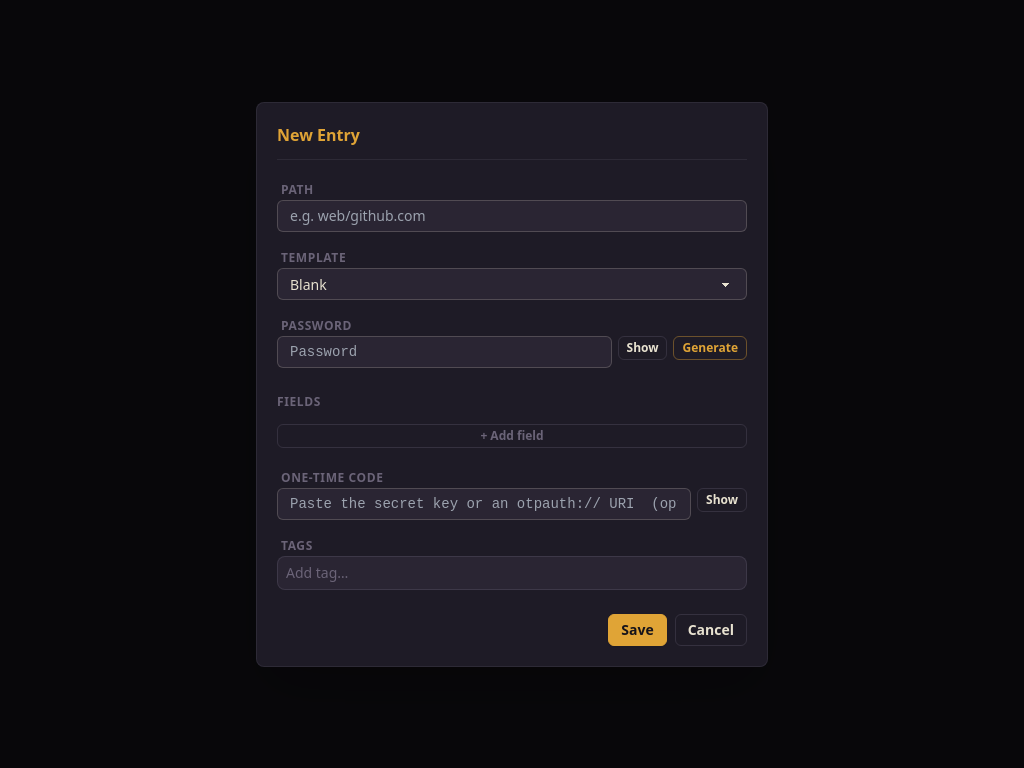
Test: Form (create) — Save › shows AlreadyExists error inline and does not close
The image size is (1024, 768).
In the field with test id "path-input": (512, 216) [277, 200, 747, 232], type "web/test.com"
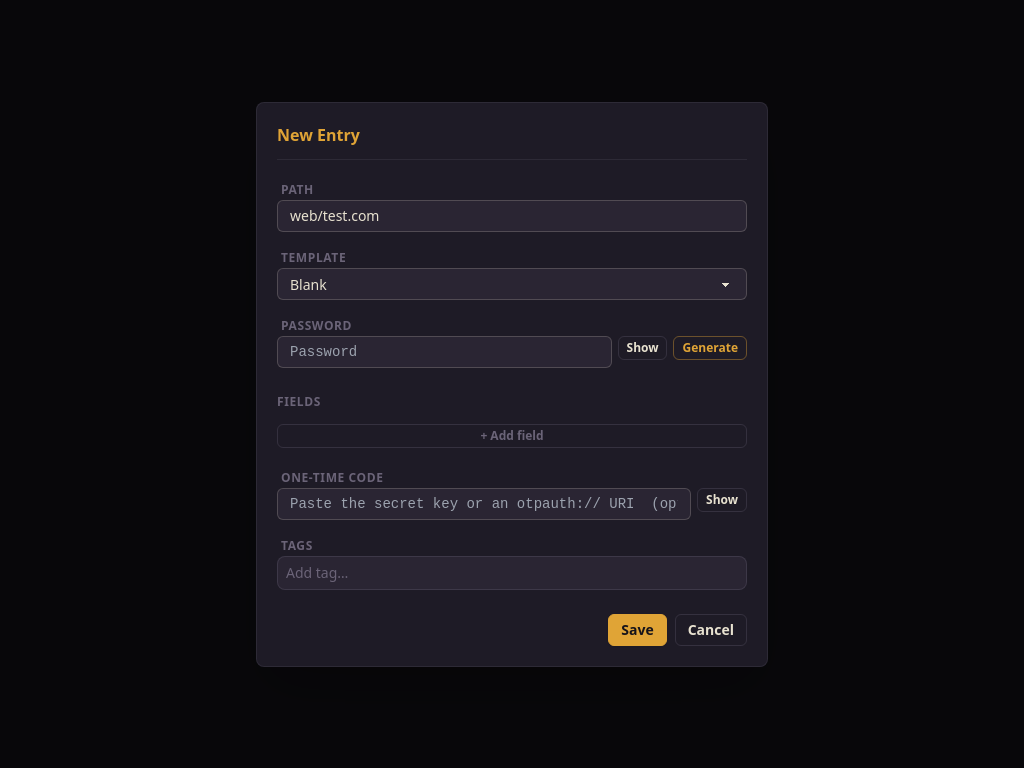
In the password field with test id "password-input": (444, 352) [277, 336, 612, 368], type "pw"
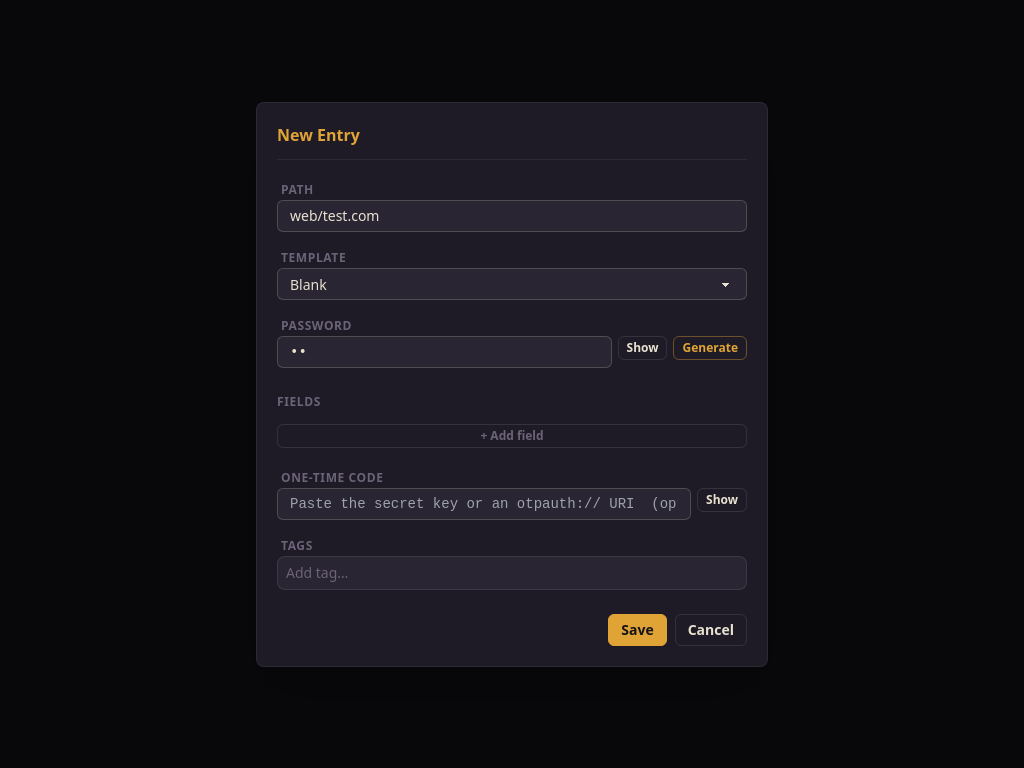
Click the button with test id "save-button": (638, 630) [608, 614, 667, 646]
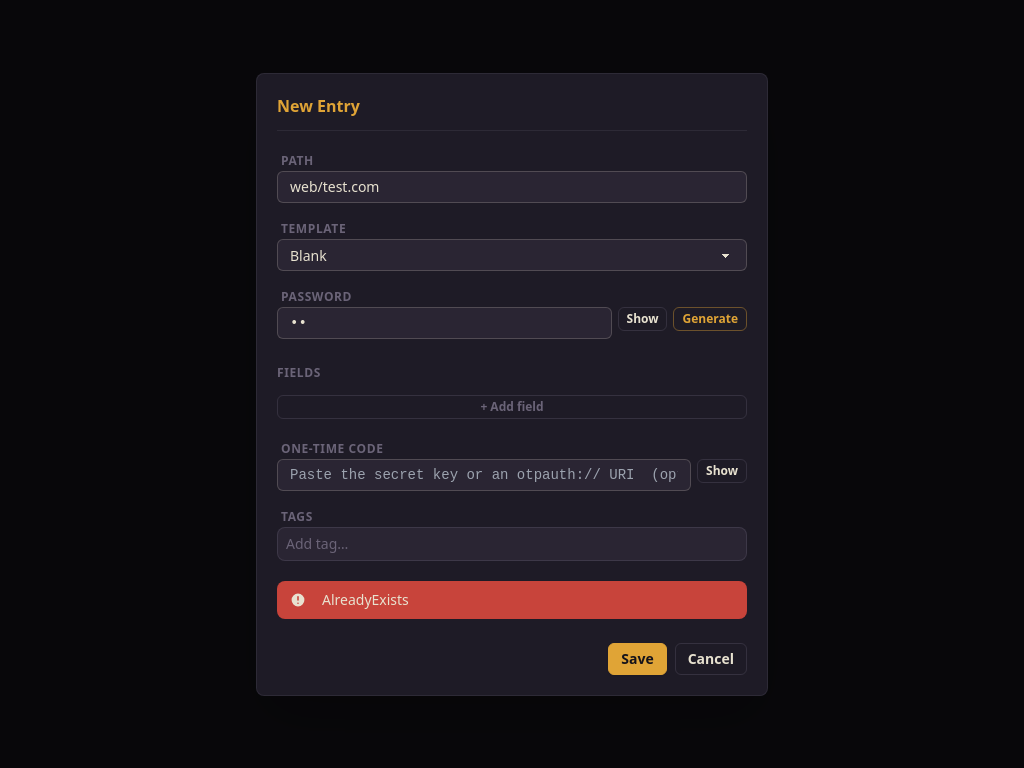
Check: the message "AlreadyExists" is shown, box [277, 580, 747, 618]
Check: the message with test id "form-error" reads "AlreadyExists", box [322, 590, 409, 608]
